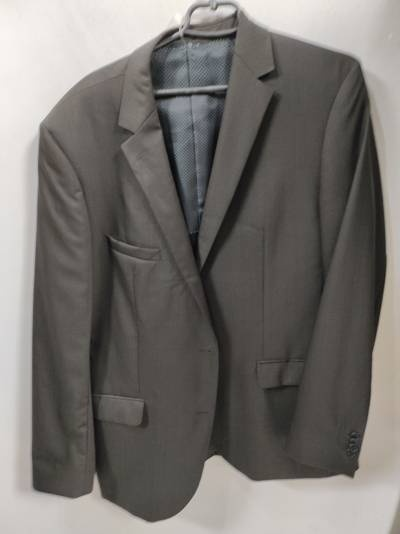Blazer: (13, 23, 385, 508)
